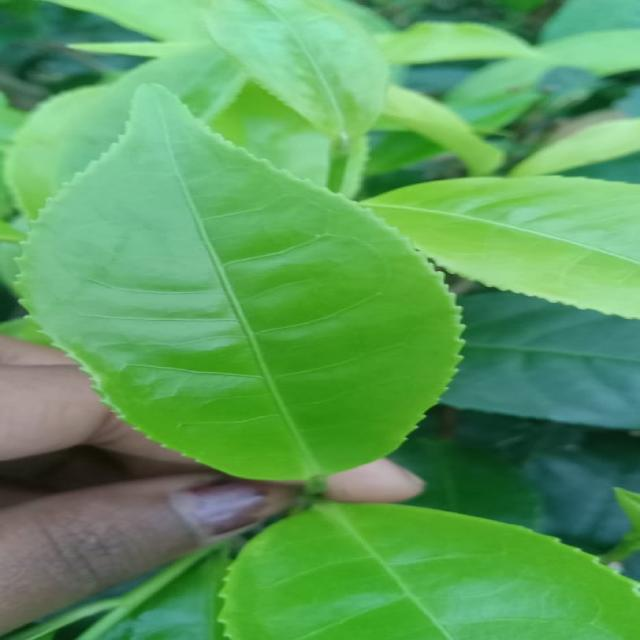Category B(2-4 days): (21, 84, 486, 498)
